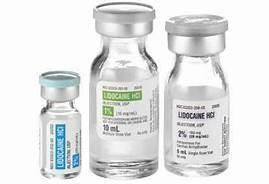Syringe: (86, 1, 160, 184), (160, 11, 232, 179), (35, 62, 84, 180)
